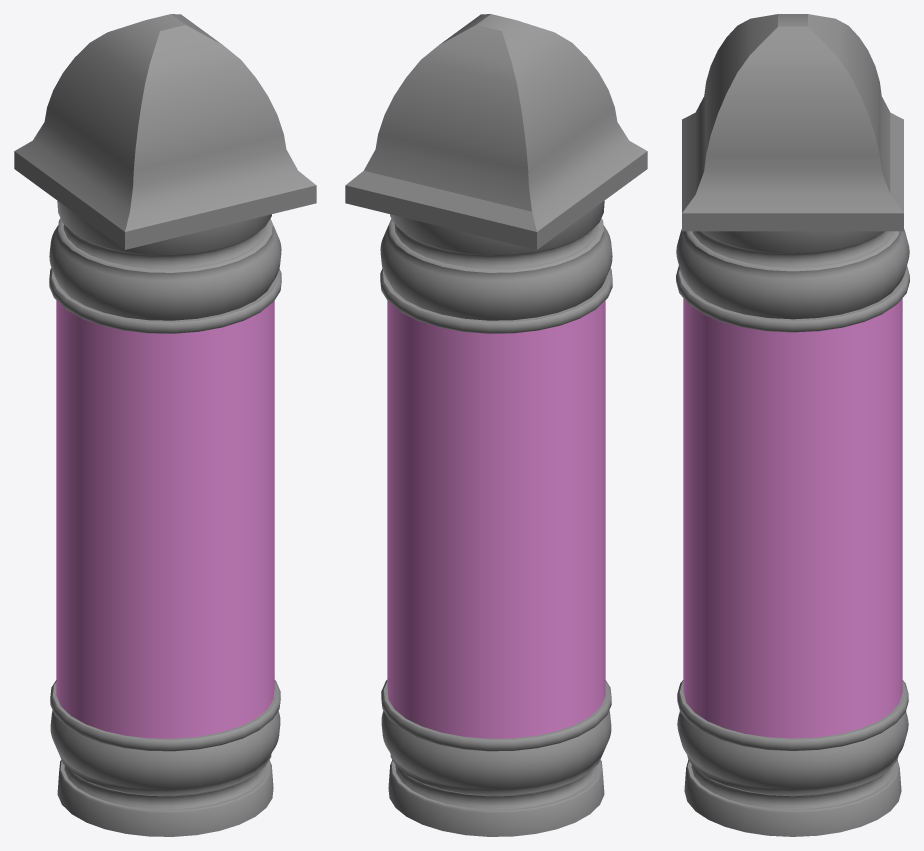
File: column06.fbx
The picture shows the model from 3 angles, left to right: view 1: azimuth 30°, elevation 25°; view 2: azimuth 150°, elevation 25°; view 3: azimuth 270°, elevation 25°; orthographic projection.
Parts seen in each view (by area): view 1: column; view 2: column; view 3: column.
Boxes of the visible parts, bbox=[...] form: column: bbox=[14, 14, 316, 836]; column: bbox=[345, 14, 647, 836]; column: bbox=[676, 14, 909, 836].
Bounding box in the file's own units: 1.25 × 4.55 × 1.25.
